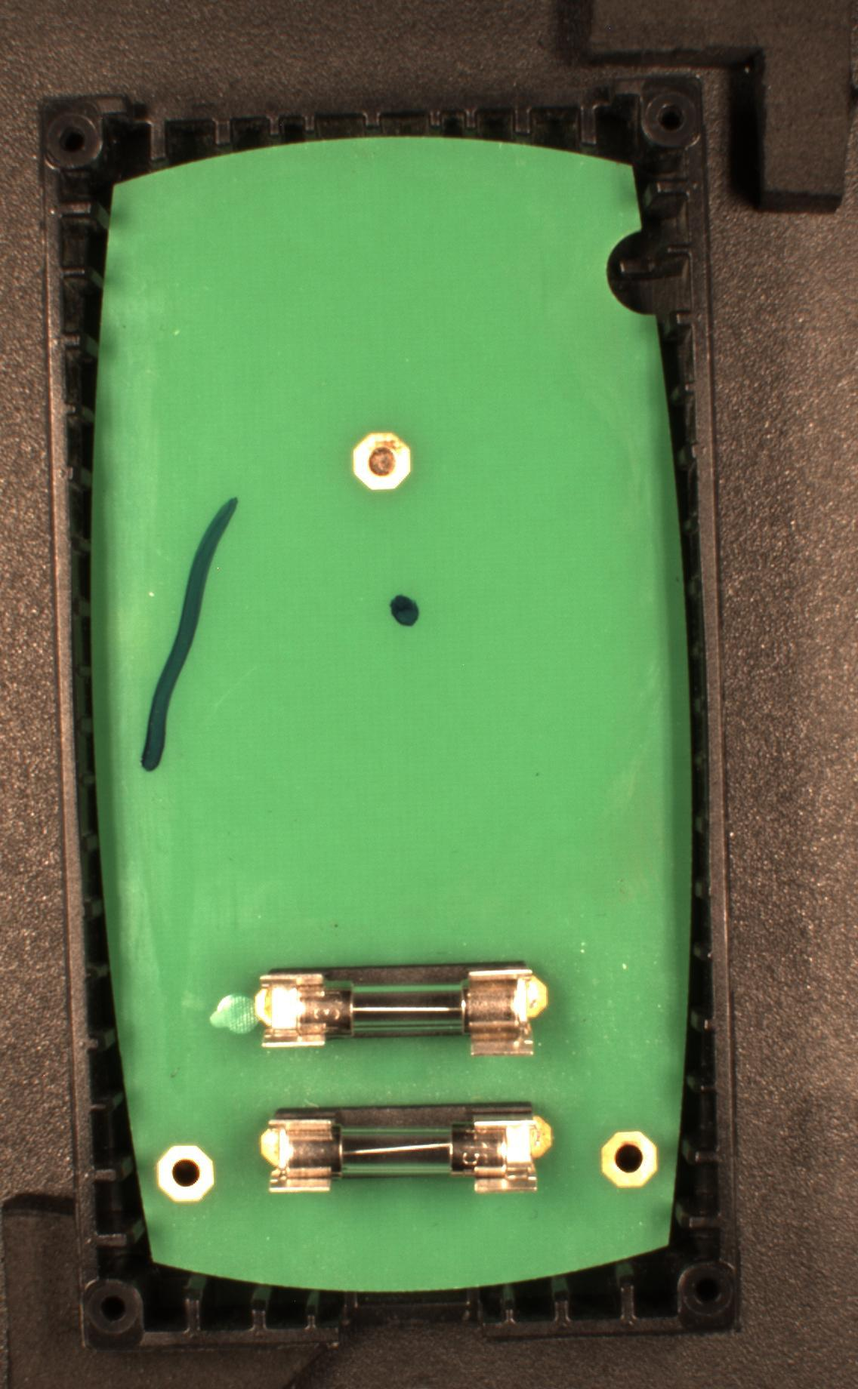Linijsko Ostecene: (138, 494, 244, 772)
Tockasto Ostecenje: (387, 592, 421, 631)
